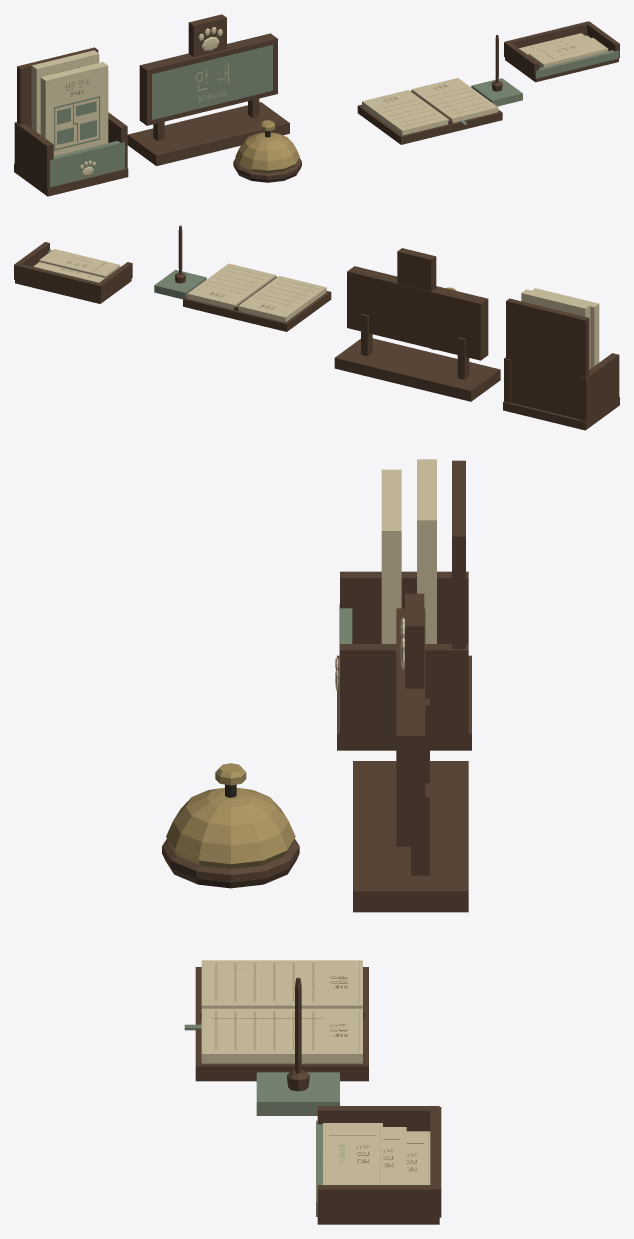
The model's file is Museum_Reception_Set.fbx.
3 views of the same model, one above another, from view 1: azimuth 30°, elevation 25°; view 2: azimuth 150°, elevation 25°; view 3: azimuth 270°, elevation 25° (orthographic). The views are drawn at different scales.
Visible parts, largest first — view 1: Museum_Info_Sign, Museum_Brochure_Holder, Museum_Guestbook_Pen, Museum_Ticket_Tray, Museum_Service_Bell; view 2: Museum_Info_Sign, Museum_Brochure_Holder, Museum_Guestbook_Pen, Museum_Ticket_Tray; view 3: Museum_Brochure_Holder, Museum_Guestbook_Pen, Museum_Info_Sign, Museum_Ticket_Tray, Museum_Service_Bell.
Part boxes in pixels (box(x1,y1,x2,y2)): Museum_Info_Sign: box(127, 14, 289, 166); Museum_Brochure_Holder: box(14, 47, 128, 196); Museum_Guestbook_Pen: box(357, 34, 522, 144); Museum_Ticket_Tray: box(504, 21, 619, 82); Museum_Service_Bell: box(233, 120, 301, 182); Museum_Info_Sign: box(334, 248, 500, 401); Museum_Brochure_Holder: box(503, 288, 619, 430); Museum_Guestbook_Pen: box(154, 225, 331, 331); Museum_Ticket_Tray: box(14, 242, 132, 303); Museum_Brochure_Holder: box(335, 459, 471, 750); Museum_Guestbook_Pen: box(184, 960, 368, 1115); Museum_Info_Sign: box(353, 593, 468, 912); Museum_Ticket_Tray: box(316, 1106, 441, 1224); Museum_Service_Bell: box(162, 763, 299, 888).
Size of the model in its own units: 204 by 40.7 by 48.2.
1 material, 1 textured.
